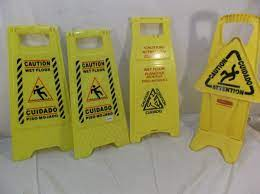wet caution sign: (194, 0, 254, 168), (65, 10, 122, 170), (129, 1, 183, 158), (6, 11, 61, 160)
